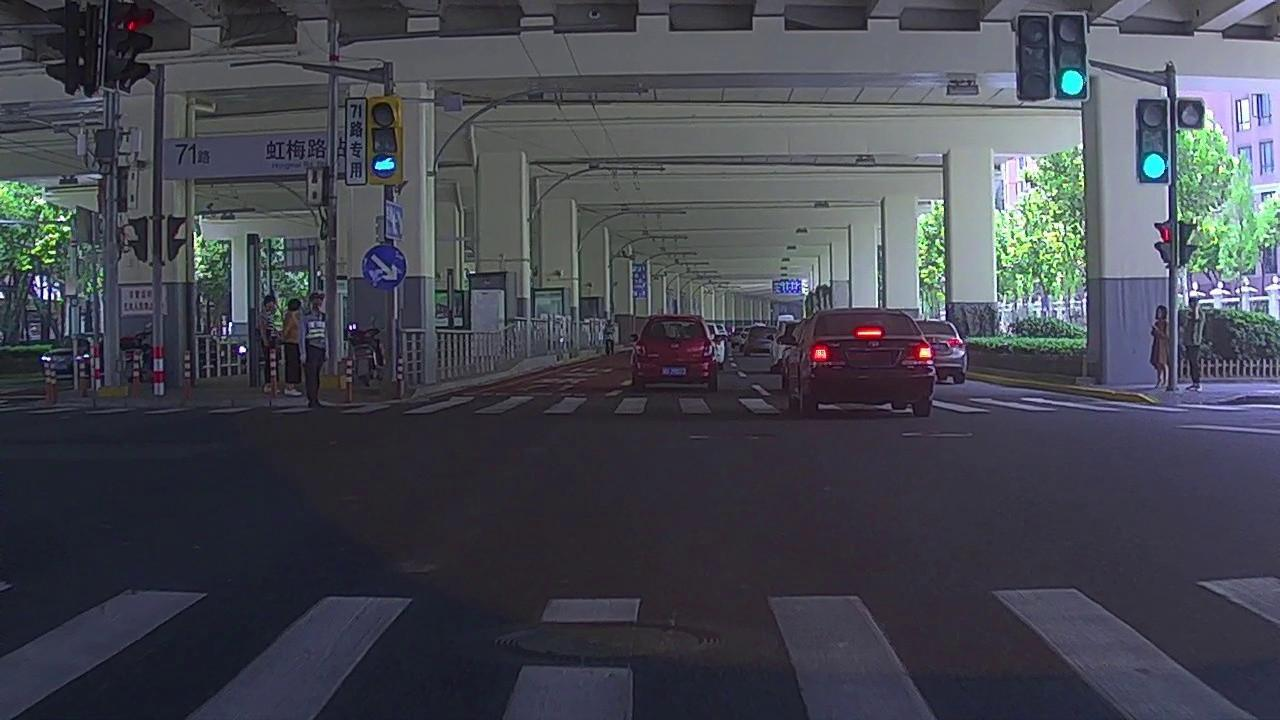traffic_light: (1052, 11, 1091, 101), (1022, 10, 1053, 99), (1138, 99, 1171, 180)
